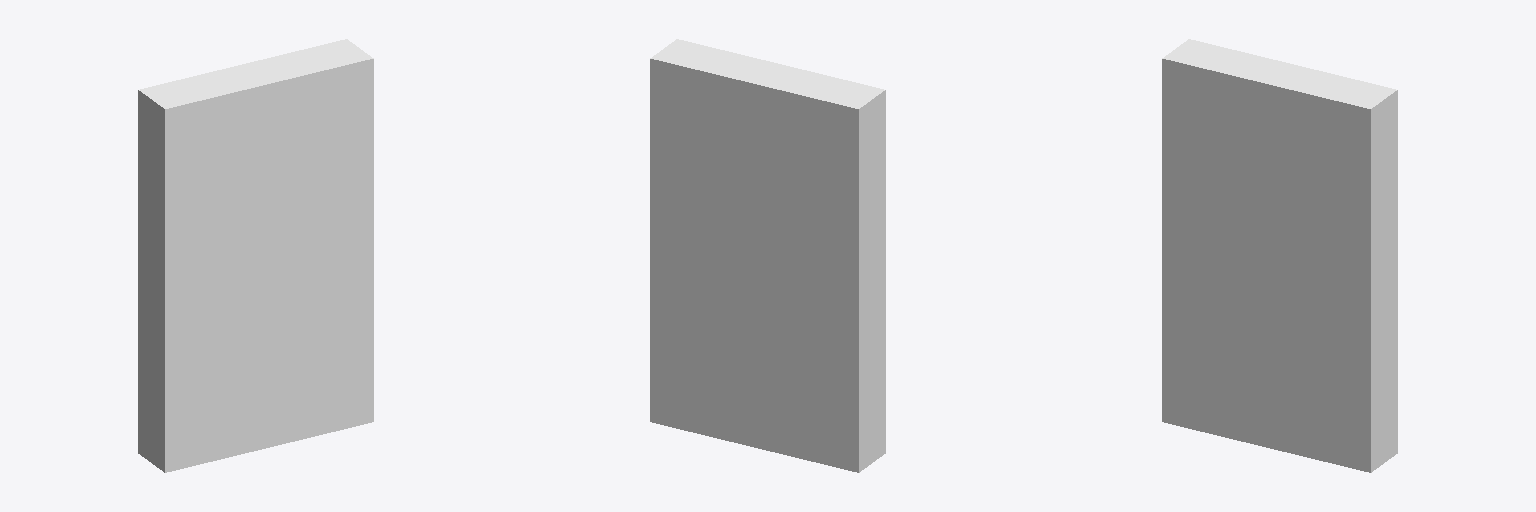
The model's file is domino.obj.
The picture shows the model from 3 angles: view 1: azimuth 30°, elevation 25°; view 2: azimuth 150°, elevation 25°; view 3: azimuth 330°, elevation 25°; orthographic projection.
Parts seen in each view (by area): view 1: object 1; view 2: object 1; view 3: object 1.
Part boxes in pixels (bbox=[...]): object 1: bbox=[138, 39, 373, 472]; object 1: bbox=[650, 39, 885, 472]; object 1: bbox=[1162, 39, 1397, 472].
Bounding box in the file's own units: 0.9 × 1.5 × 0.2.